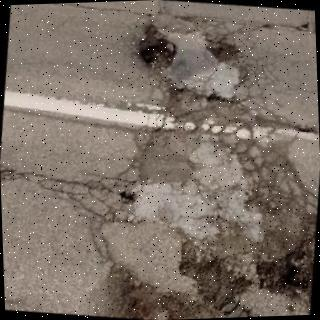pothole: (179, 241, 252, 310), (257, 250, 310, 294), (141, 45, 174, 69)
